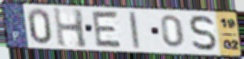0: (27, 7, 54, 47), (160, 14, 187, 50)
E: (90, 10, 124, 49)
H: (51, 6, 90, 50)
I: (127, 11, 142, 50)
S: (189, 14, 219, 52)
